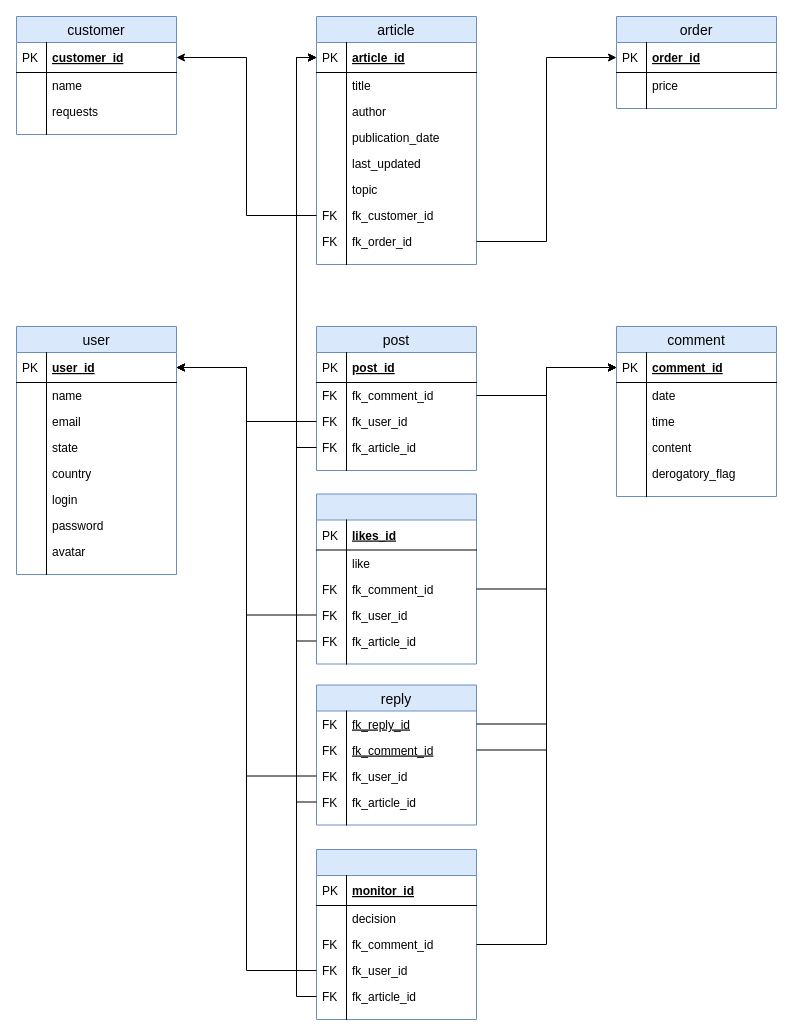
This 793x1036 diagram has some shape labels left out. The box of each missing label's shape, as (x1, y1, x2, y2) in pixels:
likes_dislikes: (316, 493, 476, 664)
monitors: (316, 848, 476, 1020)
